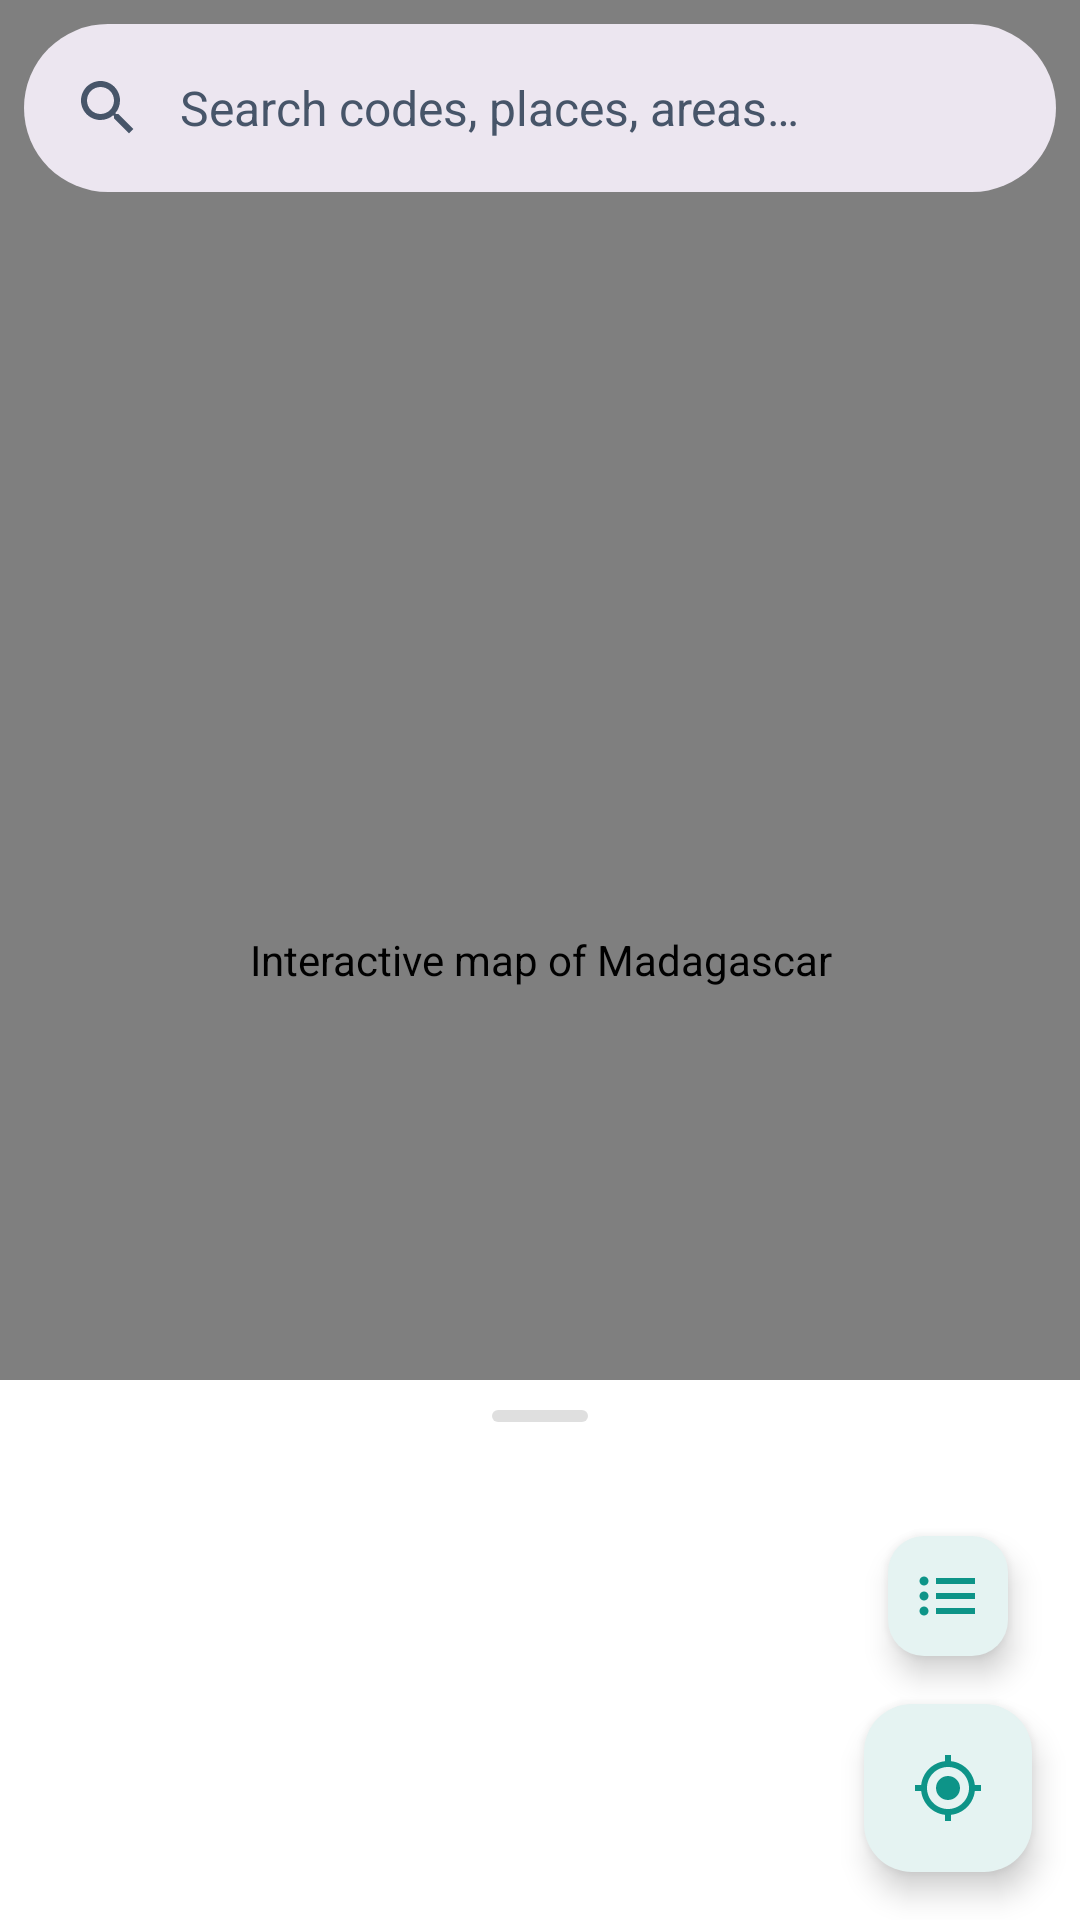

Point at icon controls on the screen. Image size 1080*1920, points as (x=x, y=y).
Locate me — find my GPS position: (x=948, y=1788)
Show map icon legend: (x=949, y=1602)
